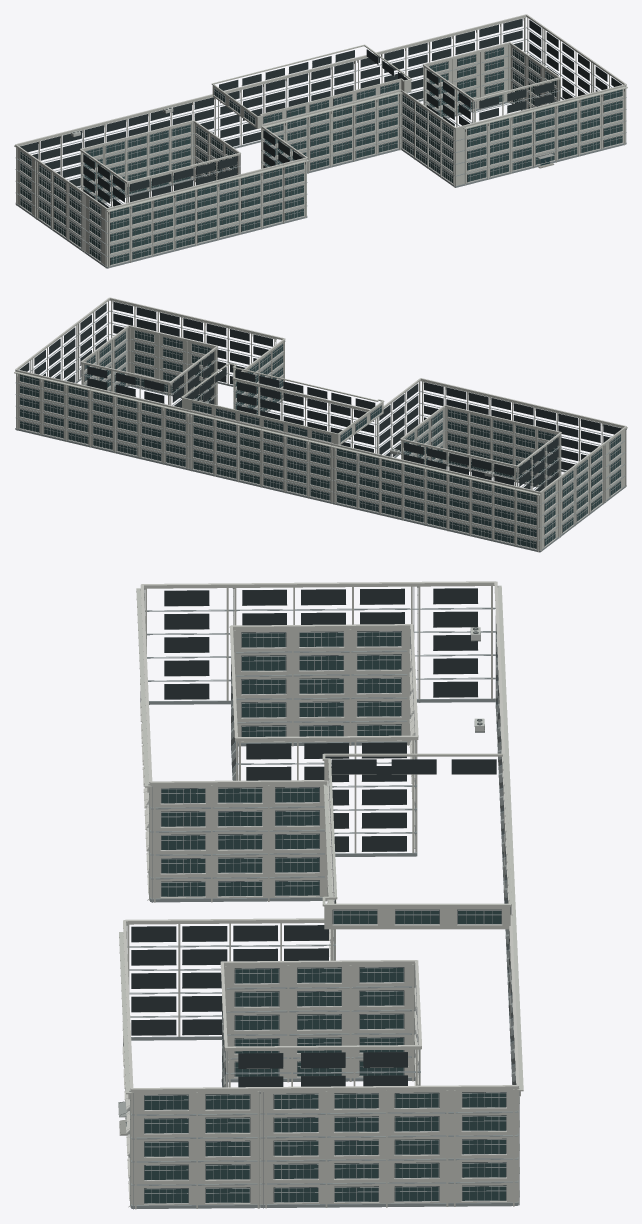
Rendered from osm_way_223699452.glb.
3 views of the same model, one above another, from view 1: azimuth 30°, elevation 25°; view 2: azimuth 150°, elevation 25°; view 3: azimuth 270°, elevation 25° (orthographic). The views are drawn at different scales.
Visible parts, largest first — view 1: Windows and facade details | 教4, Architecture | 教4, Roof services | 教4, EXTERIOR::osm_way_223699452::rainwater and roof service deta; view 2: Windows and facade details | 教4, Architecture | 教4, Roof services | 教4, EXTERIOR::osm_way_223699452::rainwater and roof service deta; view 3: Windows and facade details | 教4, Architecture | 教4, Roof services | 教4, EXTERIOR::osm_way_223699452::rainwater and roof service deta.
Boxes of the visible parts, x1,y1,x2,y2 form: Windows and facade details | 教4: [19, 18, 626, 268]; Architecture | 教4: [15, 15, 626, 268]; Roof services | 教4: [14, 14, 627, 214]; EXTERIOR::osm_way_223699452::rainwater and roof service deta: [34, 86, 625, 267]; Windows and facade details | 教4: [16, 301, 621, 549]; Architecture | 教4: [15, 298, 626, 552]; Roof services | 教4: [14, 297, 627, 498]; EXTERIOR::osm_way_223699452::rainwater and roof service deta: [77, 324, 626, 551]; Windows and facade details | 教4: [122, 587, 519, 1209]; Architecture | 教4: [124, 583, 518, 1209]; Roof services | 教4: [119, 581, 523, 1099]; EXTERIOR::osm_way_223699452::rainwater and roof service deta: [126, 586, 498, 1208].
Size of the model in its own units: 173 by 22.5 by 58.25.
